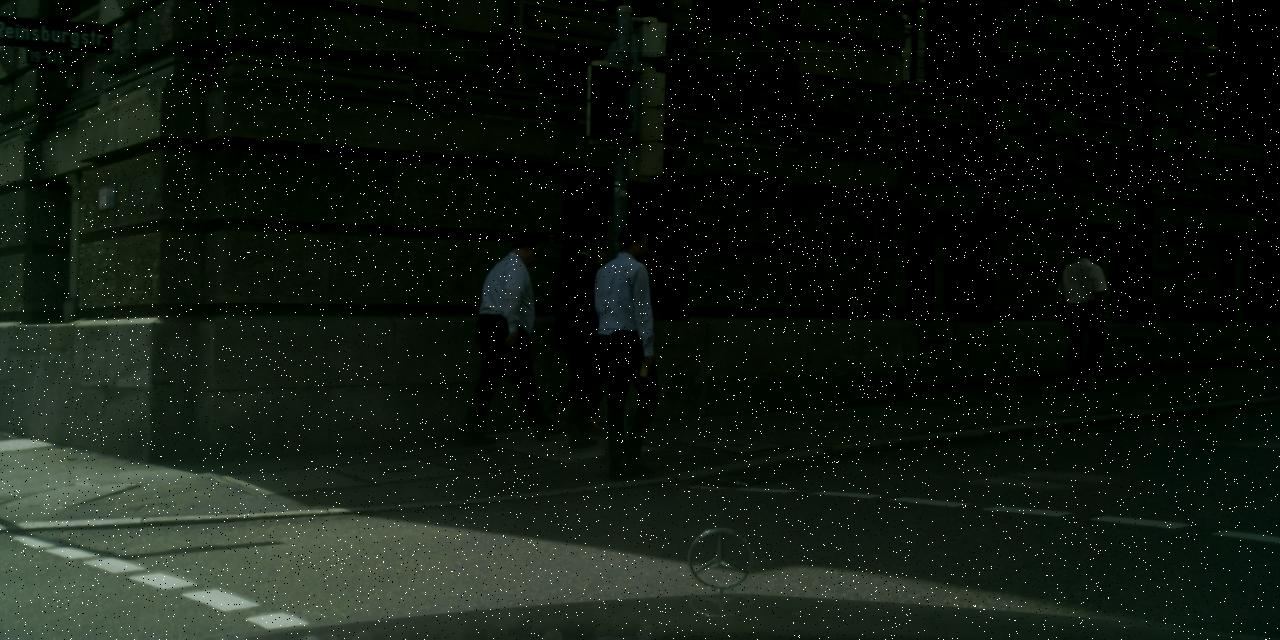ped: (581, 225, 681, 471), (540, 229, 628, 445), (479, 235, 563, 439), (548, 251, 618, 423), (1054, 240, 1115, 390)
